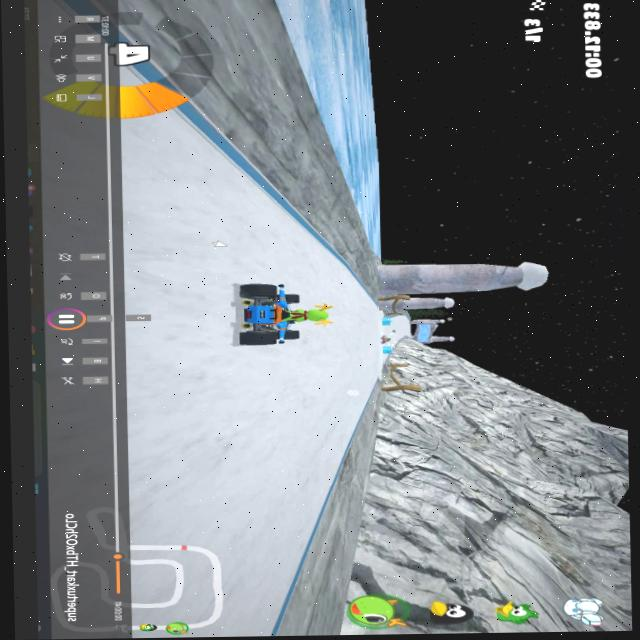bonus: (374, 311, 397, 326), (377, 344, 393, 356)
enemy_kart: (378, 333, 392, 343)
player_kart: (229, 281, 333, 347)
track: (130, 346, 265, 638), (114, 97, 190, 346), (186, 128, 231, 345), (279, 342, 356, 435), (234, 179, 282, 283), (267, 435, 315, 524), (345, 298, 382, 370), (266, 521, 300, 594), (254, 348, 281, 434), (281, 215, 311, 280), (309, 437, 334, 482), (315, 247, 342, 277), (353, 370, 380, 391), (335, 273, 362, 293), (396, 315, 413, 336)
